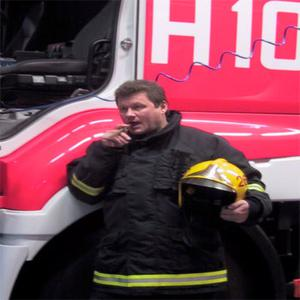cigarette: (106, 124, 132, 141)
